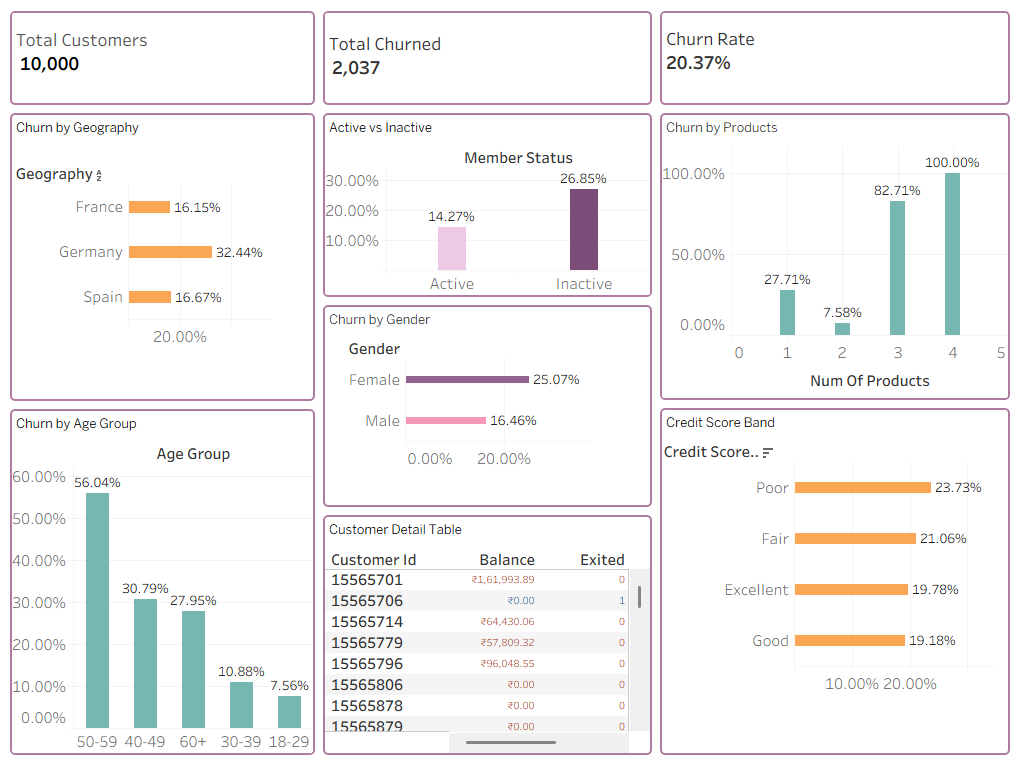

The dashboard page shown, as its layout file describes it:
{"tool":"tableau","page":{"name":"Dashboard 1","canvas":[1024,768],"ordinal":0},"visuals":[{"type":"worksheet","title":"Sheet 1","mark":"Text","box":[8,8,313,102]},{"type":"worksheet","title":"Sheet 2","mark":"Automatic","box":[321,8,337,102]},{"type":"worksheet","title":"Sheet 3","mark":"Automatic","box":[658,8,358,102]},{"type":"worksheet","title":"Sheet 4","mark":"Bar","rows":["Geography"],"cols":["Calculation_0400796457160704"],"box":[8,110,313,296]},{"type":"worksheet","title":"Sheet 7","mark":"Bar","rows":["Calculation_0400796457160704"],"cols":["Calculation_0400796457803779"],"box":[321,110,337.5,192]},{"type":"worksheet","title":"Sheet 6","mark":"Bar","rows":["Calculation_0400796457160704"],"cols":["NumOfProducts"],"box":[658.5,110,357.5,295]},{"type":"worksheet","title":"Sheet 8","mark":"Bar","rows":["Gender"],"cols":["Calculation_0400796457160704"],"box":[321,302,337.5,210]},{"type":"worksheet","title":"Sheet 9","mark":"Bar","rows":["Calculation_0400796457705474"],"cols":["Calculation_0400796457160704"],"box":[658.5,405,357.5,355]},{"type":"worksheet","title":"Sheet 5","mark":"Bar","rows":["Calculation_0400796457160704"],"cols":["Calculation_0400796457570305"],"box":[8,406,313,354]},{"type":"worksheet","title":"Sheet 10","mark":"Text","rows":["CustomerId"],"box":[321,512,337.5,248]}]}

Visuals, with their boxes in screenshot pixels (x1, y1, x2, y2), scaled from the page's 1024x768 canvas onto the 1022x767 screenshot:
"Sheet 1" worksheet (Text marks): (8, 8, 320, 110)
"Sheet 2" worksheet: (320, 8, 657, 110)
"Sheet 3" worksheet: (657, 8, 1014, 110)
"Sheet 4" worksheet (Bar marks): (8, 110, 320, 405)
"Sheet 7" worksheet (Bar marks): (320, 110, 657, 302)
"Sheet 6" worksheet (Bar marks): (657, 110, 1014, 404)
"Sheet 8" worksheet (Bar marks): (320, 302, 657, 511)
"Sheet 9" worksheet (Bar marks): (657, 404, 1014, 759)
"Sheet 5" worksheet (Bar marks): (8, 405, 320, 759)
"Sheet 10" worksheet (Text marks): (320, 511, 657, 759)
